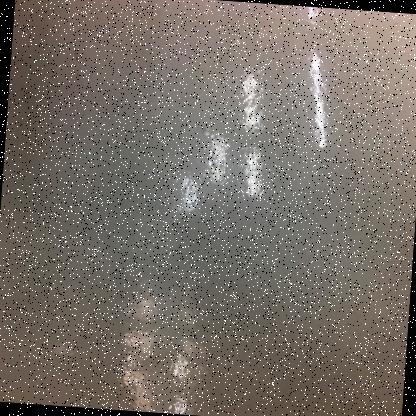Nocrack: (0, 19, 414, 412)
